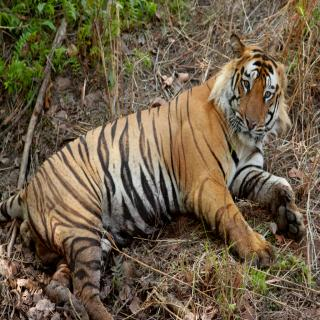Tiger: (0, 32, 306, 320)
